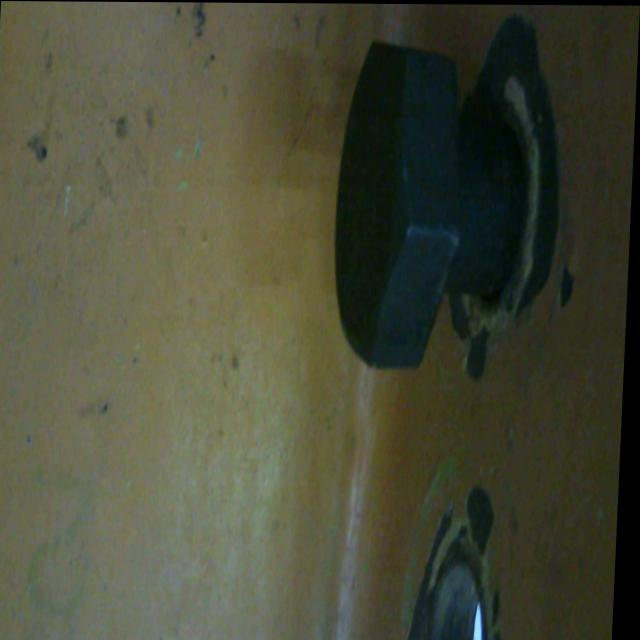Loose bolt: (329, 40, 530, 371)
Missing bolt: (423, 559, 500, 640)
Rusty bolt: (312, 32, 536, 373)
